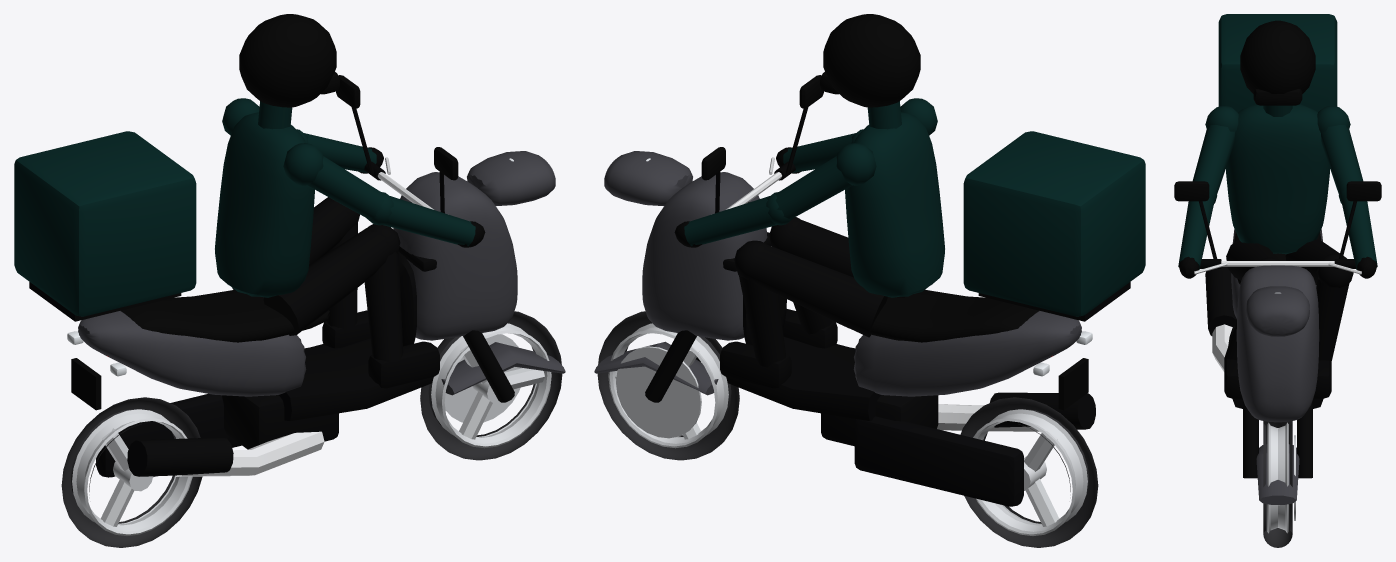
Rendered from m_livreur.glb.
3 renders of one model, left to right at view 1: azimuth 30°, elevation 25°; view 2: azimuth 150°, elevation 25°; view 3: azimuth 270°, elevation 25°, orthographic. The views are drawn at different scales.
Visible parts, largest first — view 1: TopBox, Torso, Shield, Rear, WheelR, WheelF, Helmet, Seat, Floor, Thigh.001, Engine, Muffler (+19 smaller); view 2: TopBox, Torso, Shield, WheelF, Rear, WheelR, CVT, Helmet, Seat, Floor, Thigh, HeadCover (+18 smaller); view 3: Torso, Shield, TopBox, Helmet, WheelF, HeadCover, UpperArm, UpperArm.001, Shin, Muffler, FenderF, Forearm (+20 smaller).
Part boxes in pixels (x1,y1,x2,y2): TopBox: [14, 131, 196, 316]; Torso: [215, 112, 314, 297]; Shield: [393, 172, 517, 340]; Rear: [78, 311, 306, 396]; WheelR: [61, 397, 202, 547]; WheelF: [420, 311, 562, 460]; Helmet: [239, 14, 336, 107]; Seat: [120, 289, 329, 342]; Floor: [278, 338, 433, 420]; Thigh.001: [263, 227, 393, 335]; Engine: [222, 395, 338, 449]; Muffler: [127, 437, 233, 476]; TopBox: [963, 131, 1145, 316]; Torso: [845, 112, 944, 297]; Shield: [642, 172, 767, 340]; WheelF: [597, 311, 739, 460]; Rear: [853, 311, 1081, 396]; WheelR: [960, 397, 1098, 547]; CVT: [854, 416, 1023, 506]; Helmet: [823, 14, 920, 107]; Seat: [834, 289, 1039, 342]; Floor: [726, 337, 881, 420]; Thigh: [748, 244, 887, 337]; HeadCover: [604, 151, 692, 205]; Torso: [1226, 104, 1329, 254]; Shield: [1236, 265, 1319, 422]; TopBox: [1218, 14, 1337, 112]; Helmet: [1240, 20, 1315, 93]; WheelF: [1263, 421, 1295, 547]; HeadCover: [1246, 286, 1309, 336]; UpperArm: [1321, 125, 1363, 193]; UpperArm.001: [1192, 125, 1234, 193]; Shin: [1316, 279, 1349, 362]; Muffler: [1205, 260, 1236, 335]; FenderF: [1256, 444, 1299, 504]; Forearm: [1341, 194, 1377, 269].
Bounding box in the file's own units: 1.94 × 1.76 × 0.77.
